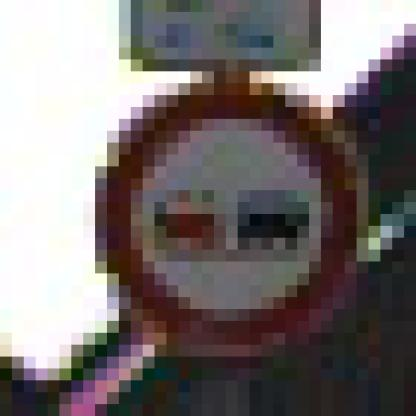No Overtaking: (72, 61, 358, 358)
